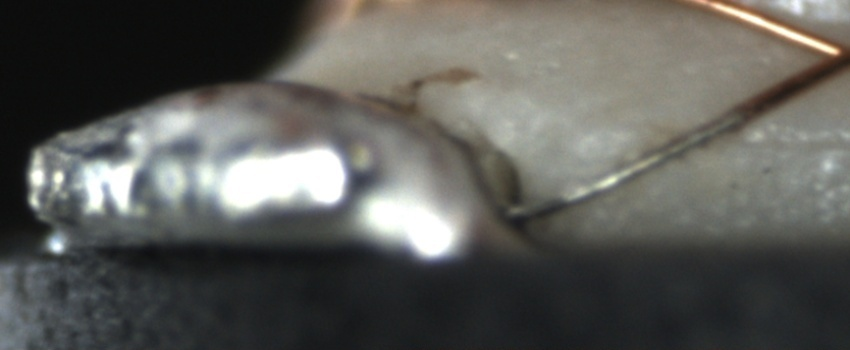CL: (797, 27, 850, 85)
DL: (741, 114, 849, 173)
TS: (502, 107, 749, 221)
